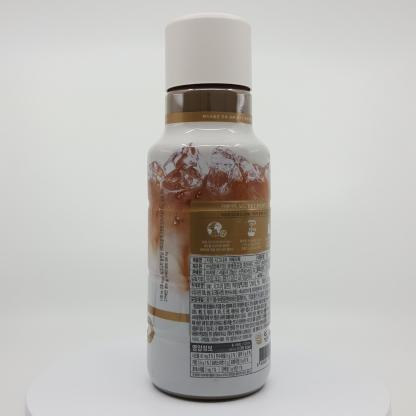----------1-1L: (147, 13, 270, 400)
